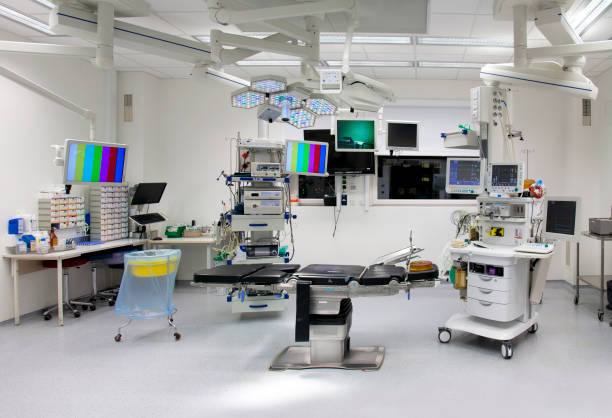TV: (329, 135, 378, 176)
bedside_monitor: (59, 135, 127, 192), (543, 196, 582, 241), (444, 157, 485, 196), (335, 117, 379, 153), (386, 119, 420, 152)
breathing_tube: (441, 236, 467, 279)
chair: (40, 260, 94, 321)
computer: (131, 183, 167, 205)
handle: (479, 299, 494, 306), (480, 274, 493, 282), (479, 289, 492, 296)
medical_drawer: (467, 264, 529, 319)
operating_bed: (193, 261, 440, 368)
surgical_light: (230, 88, 266, 111), (249, 75, 292, 93), (304, 95, 339, 117), (285, 109, 317, 129), (270, 92, 305, 109)
table: (1, 237, 148, 326), (142, 237, 216, 294)
utility_cart: (573, 229, 612, 322)
ventilator: (437, 161, 556, 356), (218, 133, 296, 315)
waste_bin: (115, 248, 182, 346)
